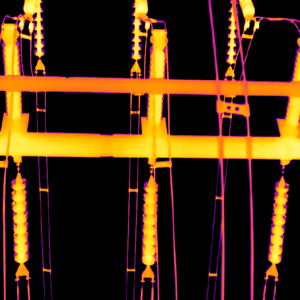insulator: (267, 176, 287, 264), (140, 174, 157, 265), (12, 172, 28, 263), (226, 5, 237, 65), (34, 0, 44, 56), (130, 18, 142, 59)
